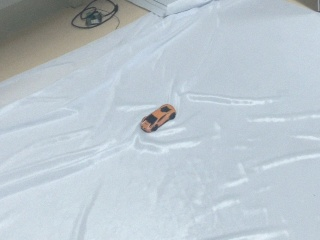toy_car: (140, 103, 176, 133)
